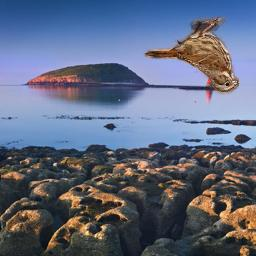Sparrow: (143, 17, 239, 95)
